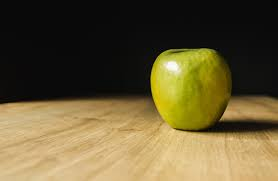apple: (152, 50, 232, 124)
